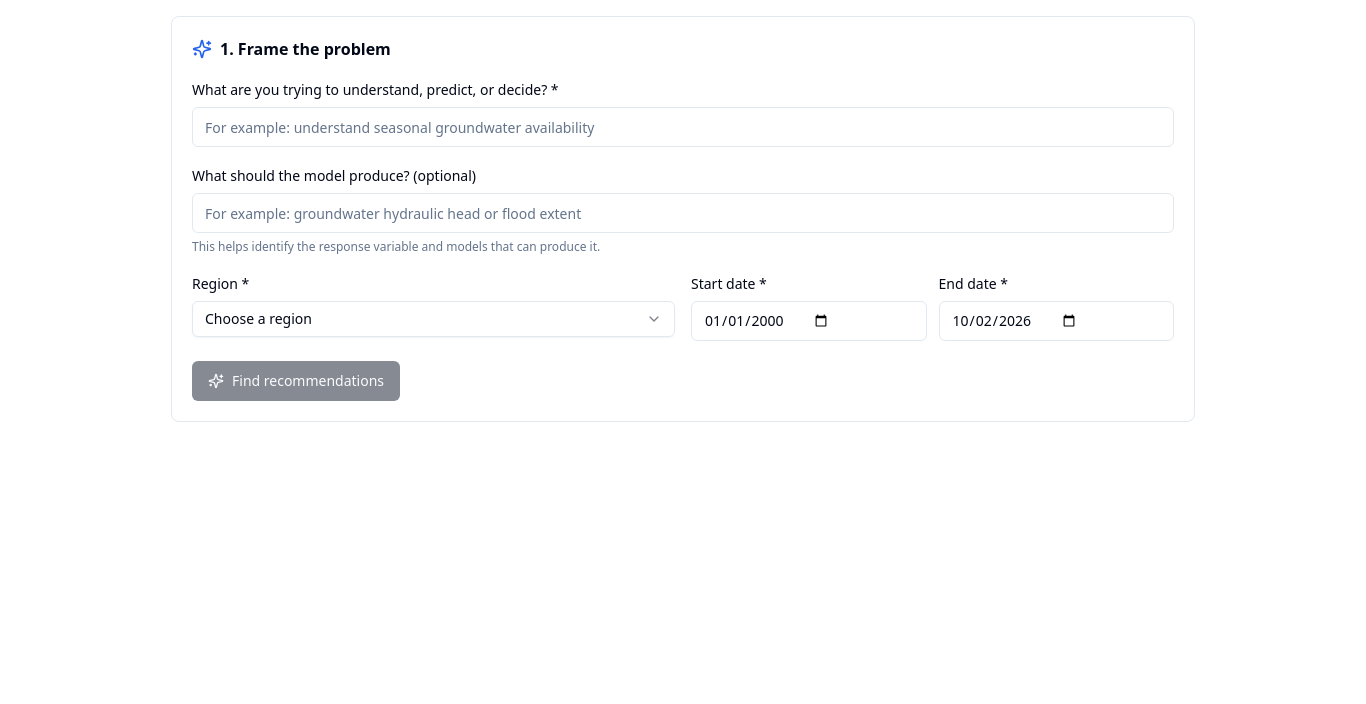
Test: GuidedModelSetup › asks framing questions before requesting recommendations
Expected: the button "Find recommendations" is disabled, [192,361,400,401]
Type "Understand groundwater availability" into the field labelled "What are you trying to understand, predict, or decide? *" at (683, 127), box [192,107,1174,147]
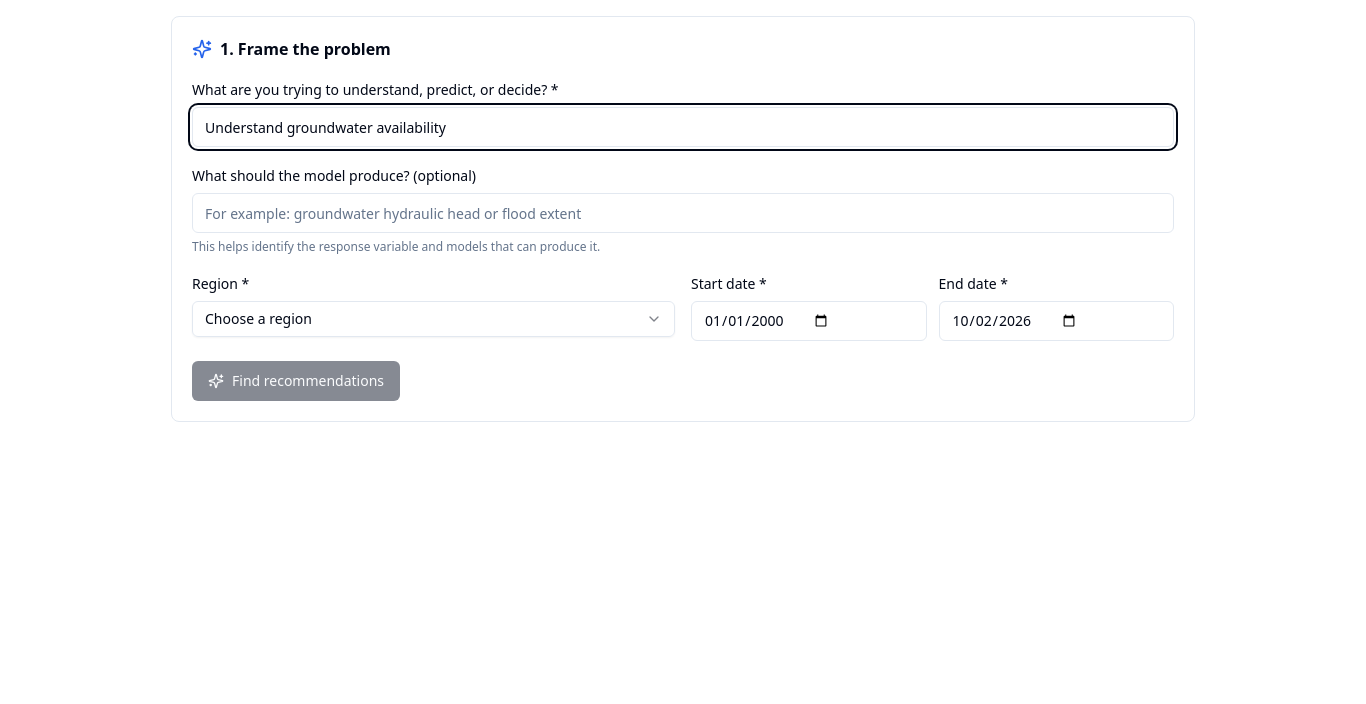
Click the dropdown labelled "region" at (258, 318), box [192,301,675,337]
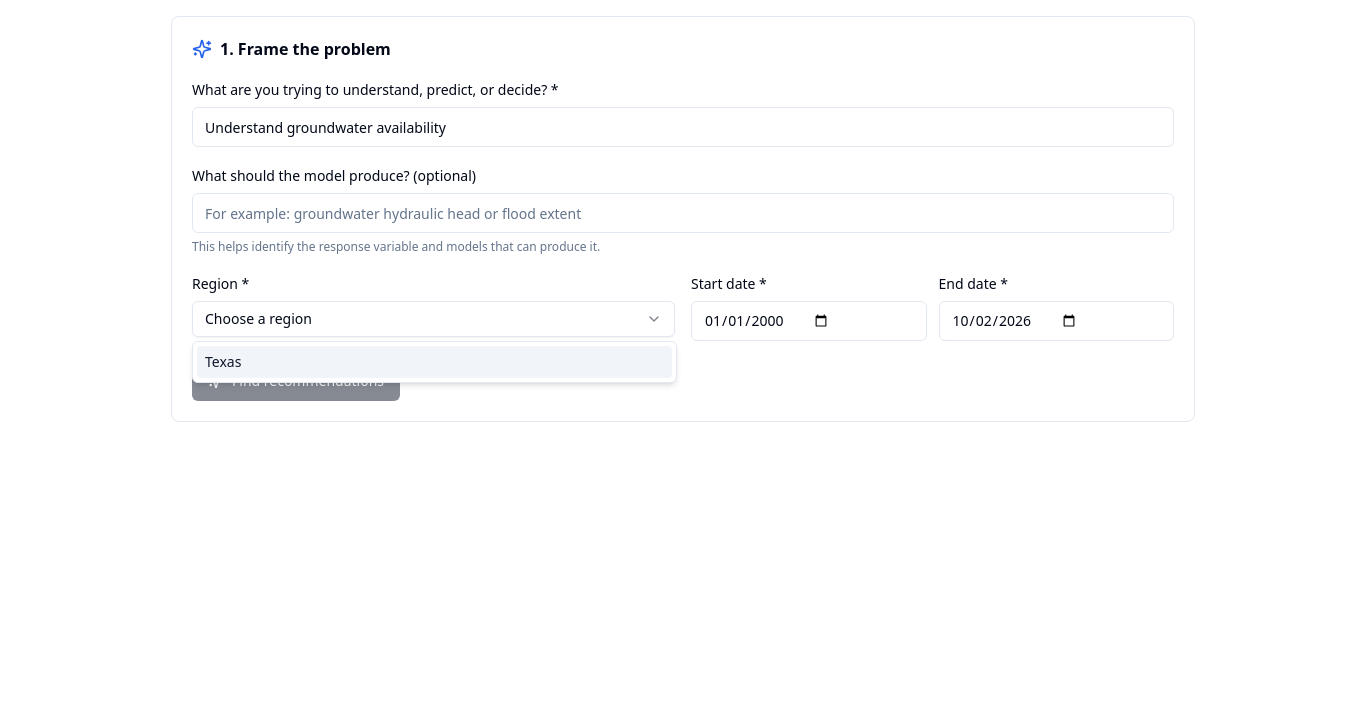
Click the option "Texas" at (223, 362), box [197,346,672,378]
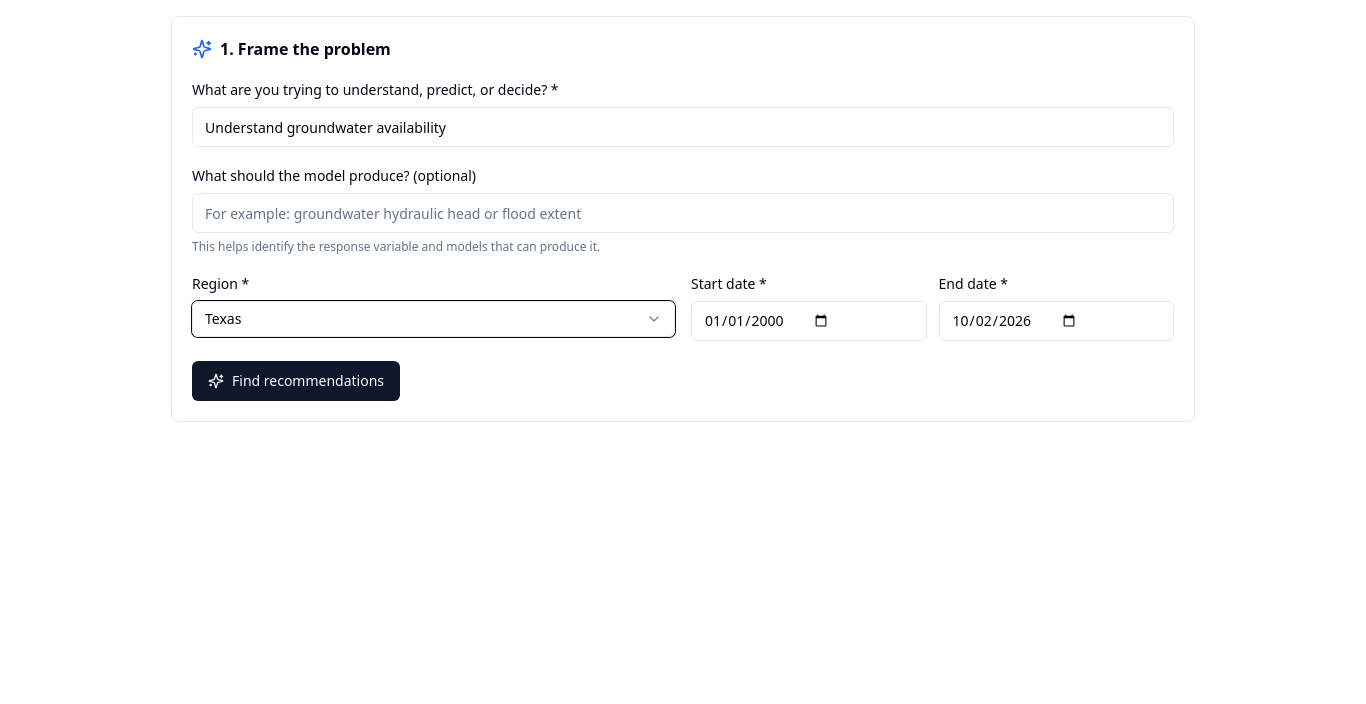
Click the button "Find recommendations" at (296, 381), box [192,361,400,401]
(page scrolled)
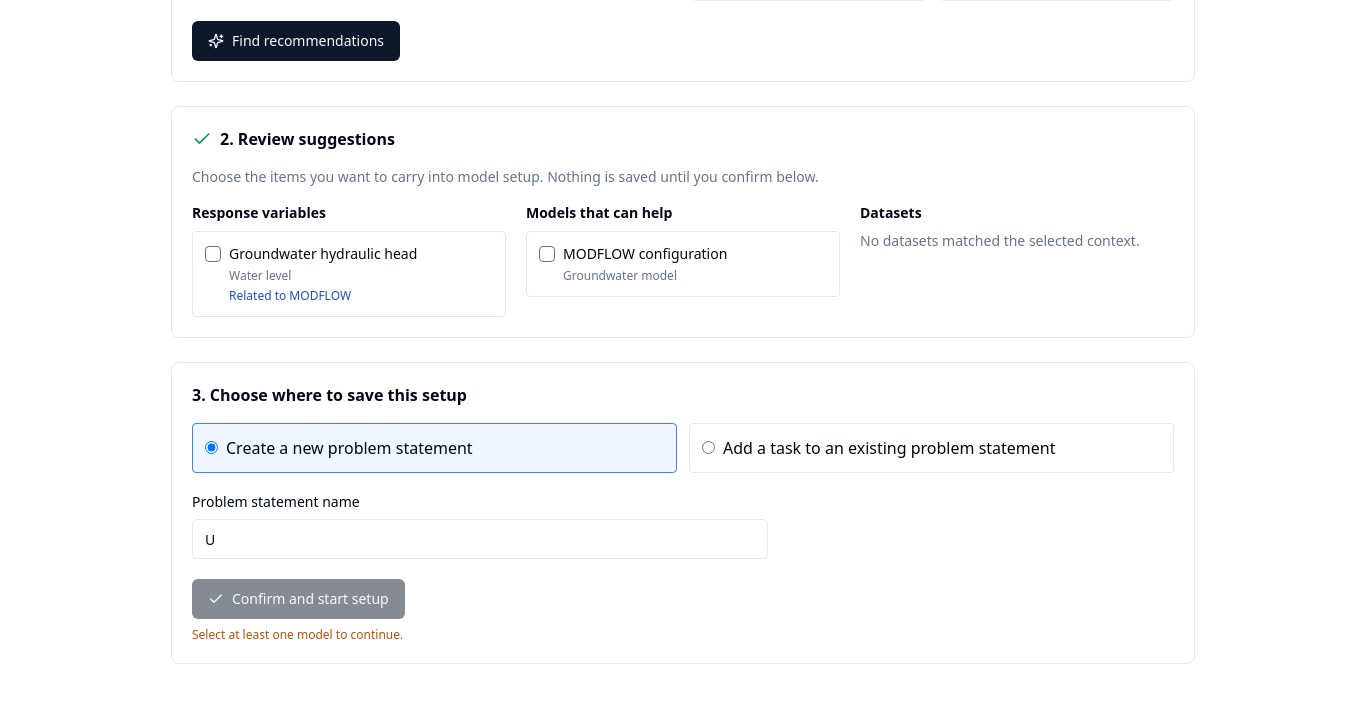
Result: the text "Groundwater hydraulic head" is shown at [229,244,417,264]
Result: the text "MODFLOW configuration" is shown at [563,244,727,264]
Result: the button "Confirm and start setup" is disabled at [192,579,405,619]
